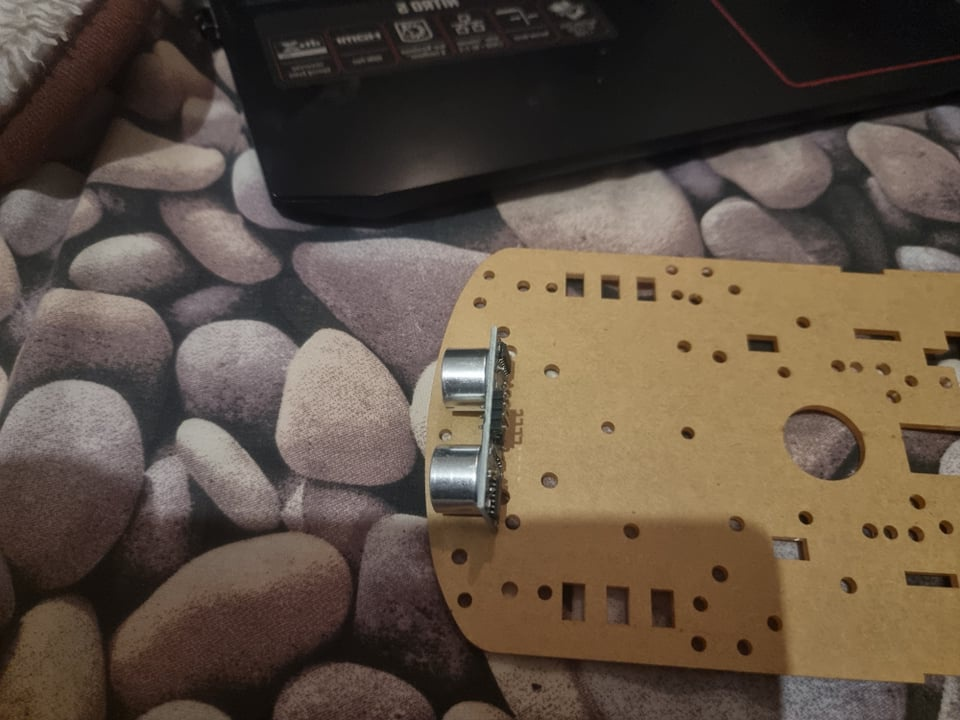SENSOR: (429, 329, 515, 533)
